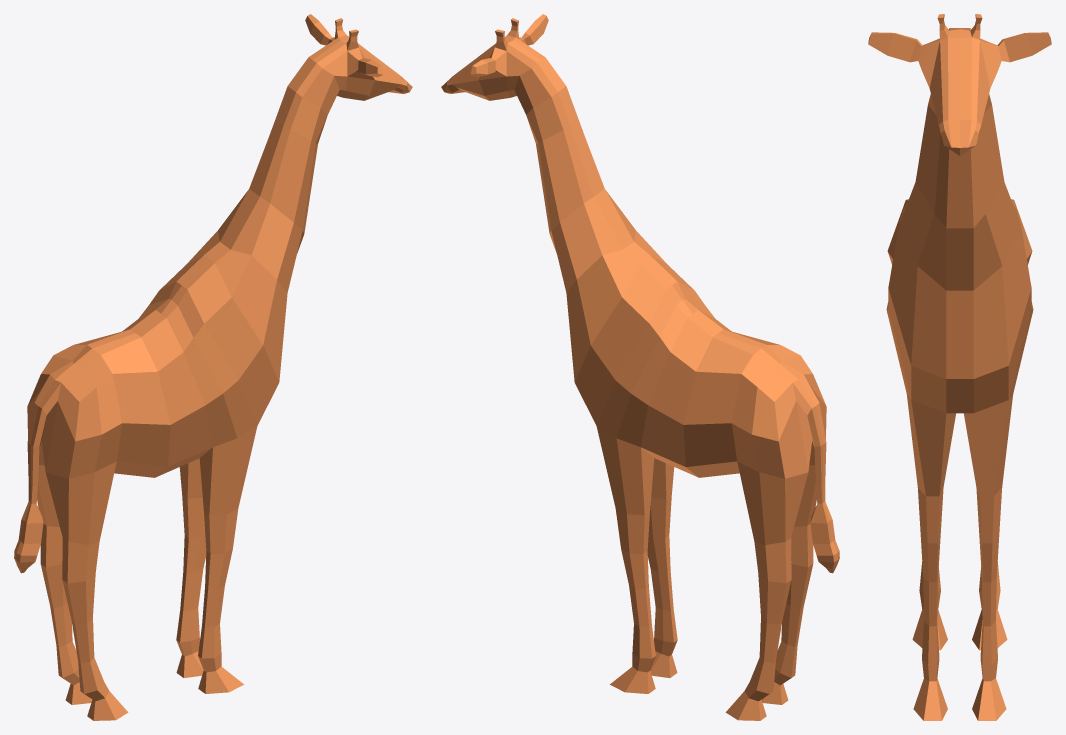
3 views of the same model, side by side, from view 1: azimuth 30°, elevation 25°; view 2: azimuth 150°, elevation 25°; view 3: azimuth 270°, elevation 25° (orthographic). The views are drawn at different scales.
Parts seen in each view (by area): view 1: jirafa; view 2: jirafa; view 3: jirafa.
Part boxes in pixels (<box>): jirafa: <box>14,14,412,720</box>; jirafa: <box>441,14,839,720</box>; jirafa: <box>868,14,1051,720</box>.
Bounding box in the file's own units: 345 × 520 × 111.
